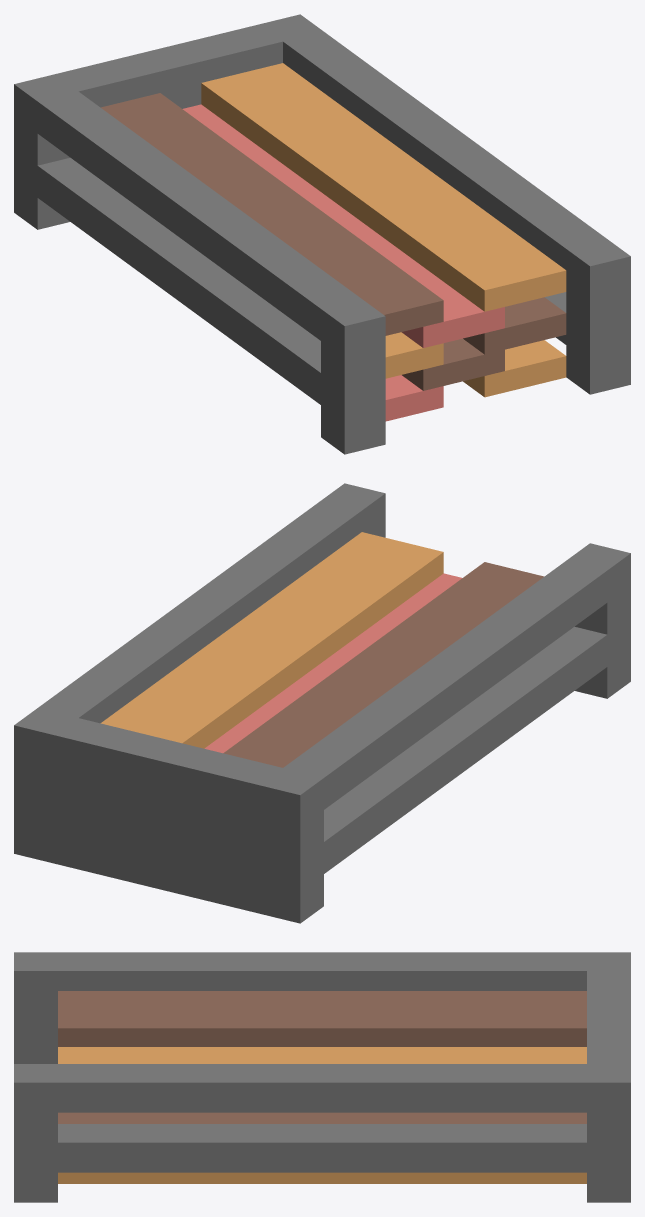
Rendered from Industrial_Wood_Hold.fbx.
The picture shows the model from 3 angles, top to bottom: view 1: azimuth 30°, elevation 25°; view 2: azimuth 150°, elevation 25°; view 3: azimuth 270°, elevation 25°; orthographic projection. The views are drawn at different scales.
Parts seen in each view (by area): view 1: Wood_Planks_Shell, Cube.007, Cube.006, Cube.005, Cube, Cube.003, Cube.002, Cube.001, Cube.004; view 2: Wood_Planks_Shell, Cube.007, Cube.006, Cube.005; view 3: Wood_Planks_Shell, Cube.006, Cube.007, Cube, Cube.003.
Boxes of the visible parts, left/top/right/bottom form: Wood_Planks_Shell: left=14, top=14, right=630, bottom=454; Cube.007: left=201, top=63, right=566, bottom=311; Cube.006: left=100, top=93, right=443, bottom=335; Cube.005: left=182, top=104, right=504, bottom=347; Cube: left=463, top=340, right=566, bottom=397; Cube.003: left=463, top=297, right=566, bottom=354; Cube.002: left=402, top=338, right=504, bottom=390; Cube.001: left=385, top=375, right=443, bottom=421; Cube.004: left=385, top=332, right=443, bottom=378; Wood_Planks_Shell: left=14, top=483, right=630, bottom=923; Cube.007: left=100, top=532, right=443, bottom=748; Cube.006: left=223, top=562, right=544, bottom=767; Cube.005: left=204, top=573, right=462, bottom=753; Wood_Planks_Shell: left=14, top=952, right=630, bottom=1202; Cube.006: left=58, top=991, right=586, bottom=1046; Cube.007: left=58, top=1047, right=586, bottom=1063; Cube: left=58, top=1172, right=586, bottom=1183; Cube.003: left=58, top=1112, right=586, bottom=1123.
Size of the model in its own units: 700 by 300 by 1400.
